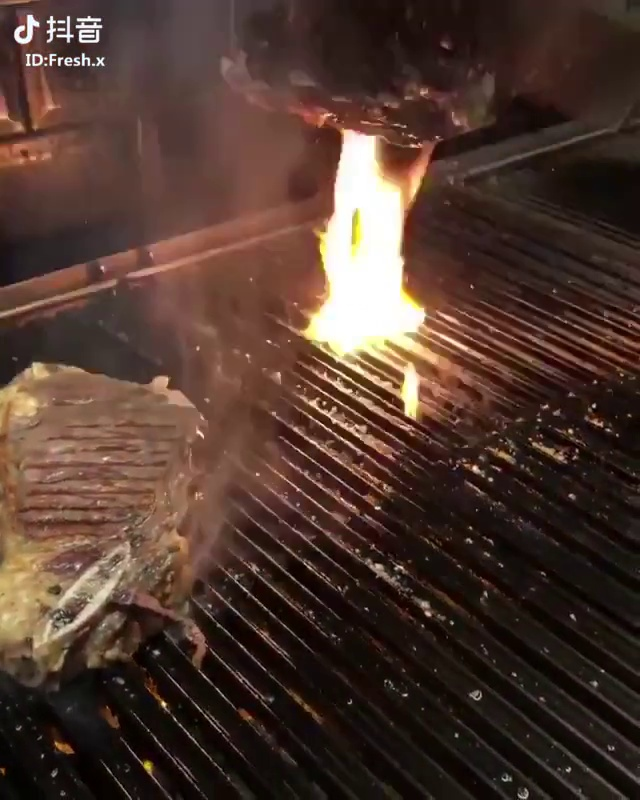fire: (314, 131, 424, 342)
